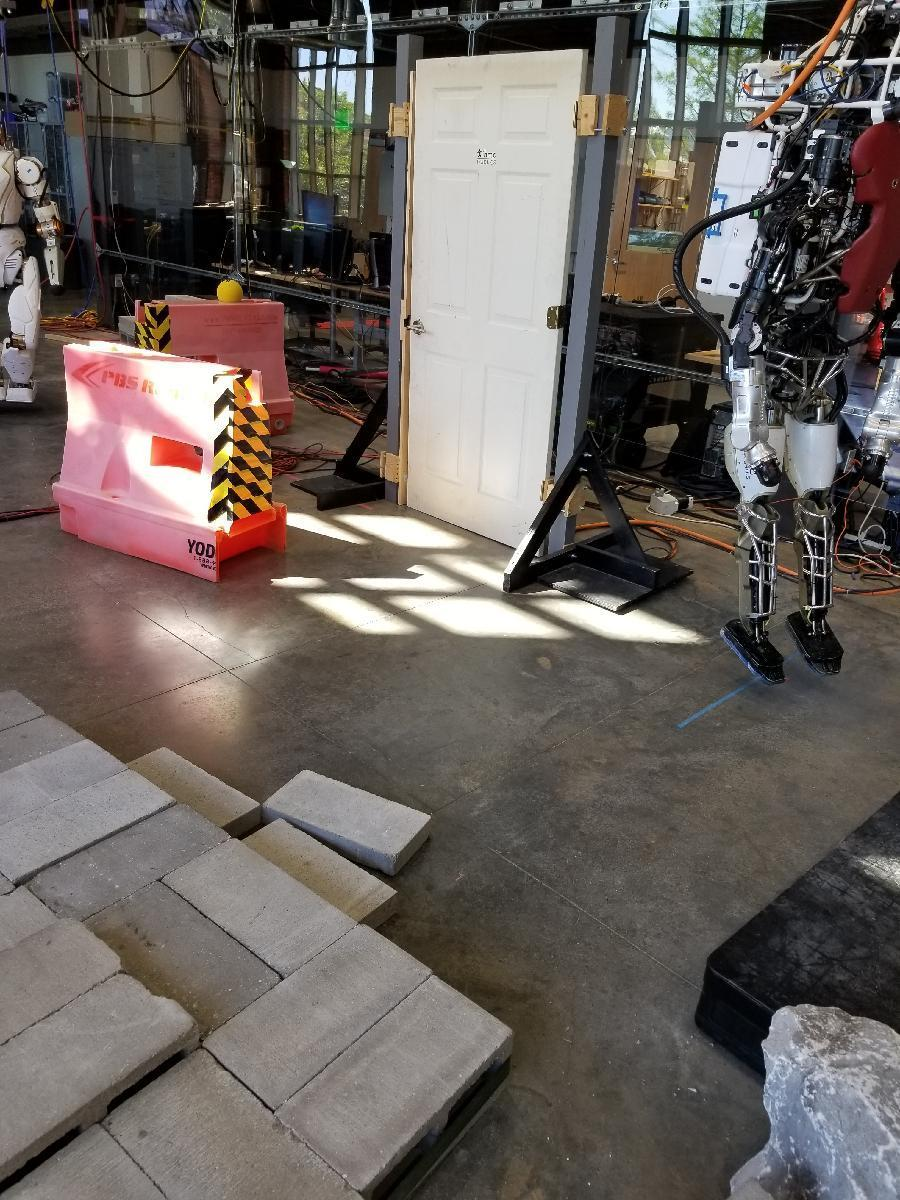door: (410, 58, 564, 530)
